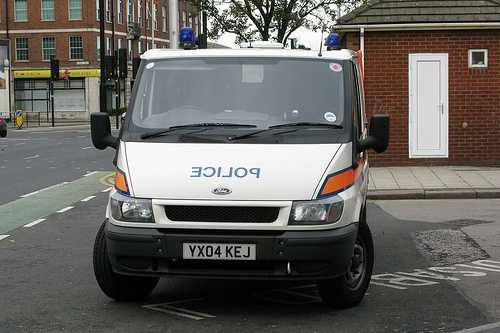Police Car: (68, 19, 376, 301)
